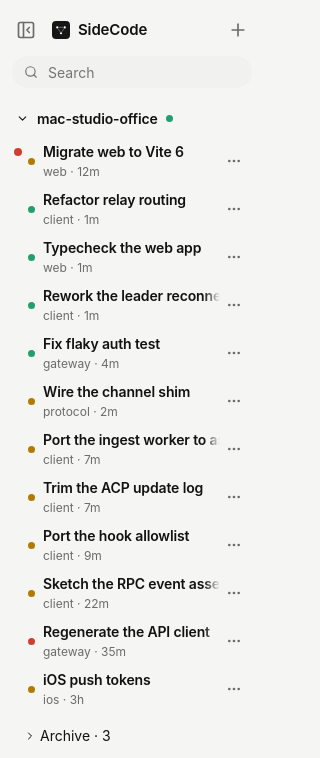
Test: the rail › holds the toggle, New session, Search and the account’s initials, and nothing else
Click the button named "Close sidebar" at (26, 30), box [8,12,44,48]
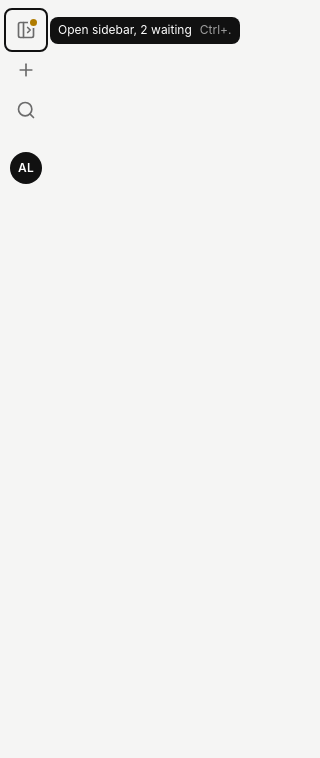
Result: the button named "Search" is shown at [8,92,44,128]
Result: the number of buttons is 4 at [8,12,44,48]; [8,52,44,88]; [8,92,44,128]; [6,148,46,188]
Result: the link "SideCode" is gone
